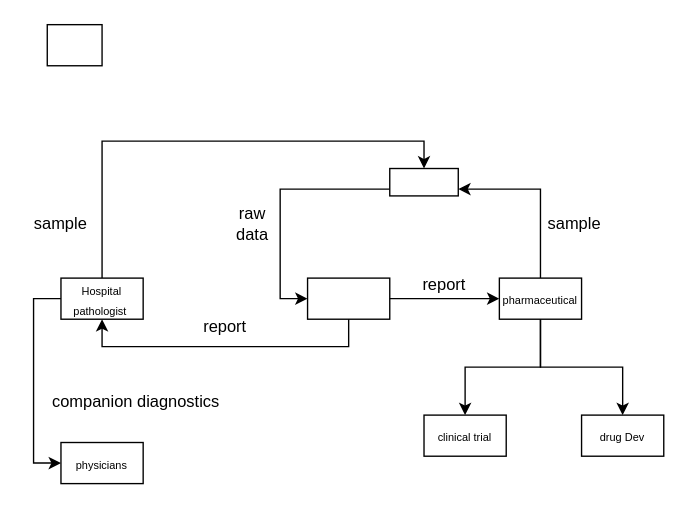
The diagram is 688 pixels wide and 507 high, and some of its shapes have lost their labels. The shapes that lost their labels are listed below. From the top down, each one's centre as x and y in pixels, then its label:
At point (74, 44): "FDA".
At point (423, 181): "Nanostring".
At point (348, 298): "company".
